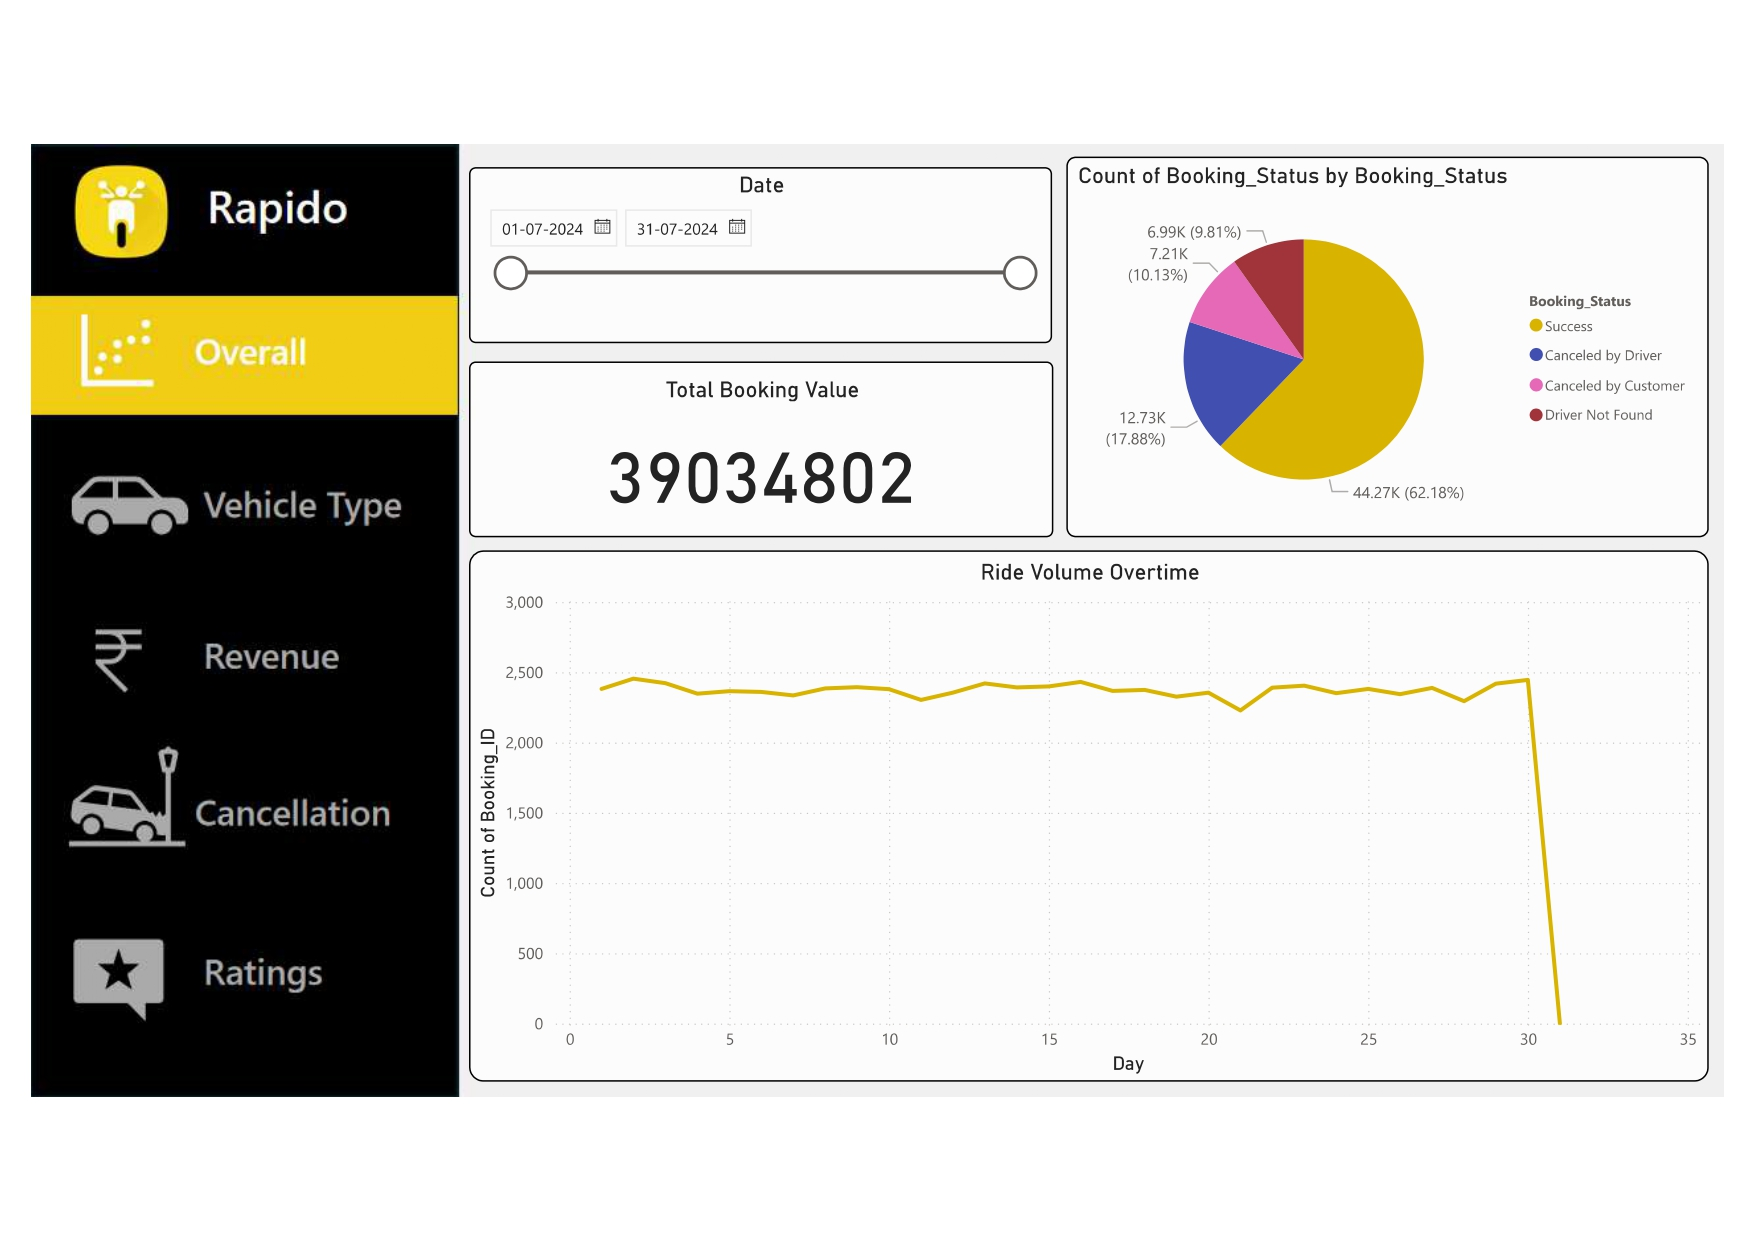

The page's visual inventory and layout, read from the dashboard file:
{"tool":"powerbi","page":{"name":"Overall","canvas":[1280,720],"ordinal":0},"visuals":[{"type":"lineChart","title":"Ride Volume Overtime","fields":{"Category":["July.Date.Variation.Date Hierarchy.Day"],"Y":["CountNonNull(July.Booking_ID)"]},"box":[331.2,307.1,937.6,401.9],"z":0},{"type":"pieChart","fields":{"Category":["July.Booking_Status"],"Y":["CountNonNull(July.Booking_Status)"]},"box":[783.2,9.5,485.6,287.2],"z":1000},{"type":"card","title":"Total Booking Value","fields":{"Values":["Sum(July.Booking_Value)"]},"box":[331.2,163.9,441.6,132.8],"z":2000},{"type":"slicer","title":"Date","fields":{"Values":["July.Date"]},"box":[331.2,17.3,440.8,132.8],"z":3000},{"type":"actionButton","box":[0,216.4,322.6,90.7],"z":4000},{"type":"actionButton","box":[0,351.4,324.6,73.2],"z":4001},{"type":"actionButton","box":[0,351.4,324.6,87.6],"z":4002}]}

Visuals, with their boxes on the page's 1280x720 design canvas (x1, y1, x2, y2). These are canvas units, not pixel positions in the 1755x1241 screenshot, which may show the page scaled, cropped or inside an application window:
"Ride Volume Overtime" lineChart: [331, 307, 1269, 709]
pieChart - July.Booking_Status x CountNonNull(July.Booking_Status): [783, 10, 1269, 297]
"Total Booking Value" card: [331, 164, 773, 297]
"Date" slicer: [331, 17, 772, 150]
actionButton: [0, 216, 323, 307]
actionButton: [0, 351, 325, 425]
actionButton: [0, 351, 325, 439]
